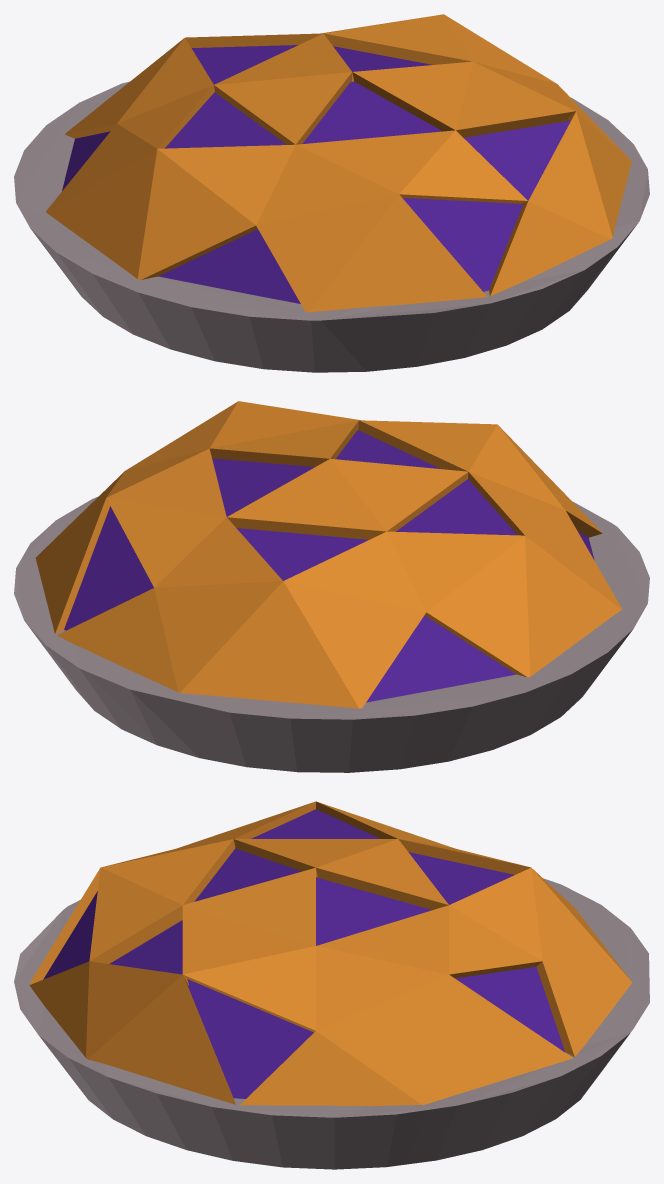
Rendered from Pie_v.1.5 1.fbx.
The picture shows the model from 3 angles, top to bottom: view 1: azimuth 30°, elevation 25°; view 2: azimuth 150°, elevation 25°; view 3: azimuth 270°, elevation 25°; orthographic projection.
Parts seen in each view (by area): view 1: Cylinder; view 2: Cylinder; view 3: Cylinder.
Part boxes in pixels (<box>): Cylinder: <box>14,14,649,372</box>; Cylinder: <box>14,401,649,772</box>; Cylinder: <box>14,801,649,1169</box>.
Size of the model in its own units: 241 by 80.76 by 239.
